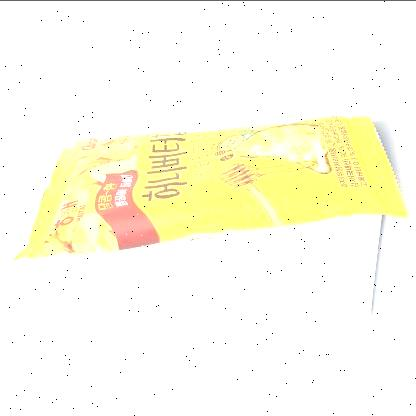Others: (7, 90, 413, 270)
